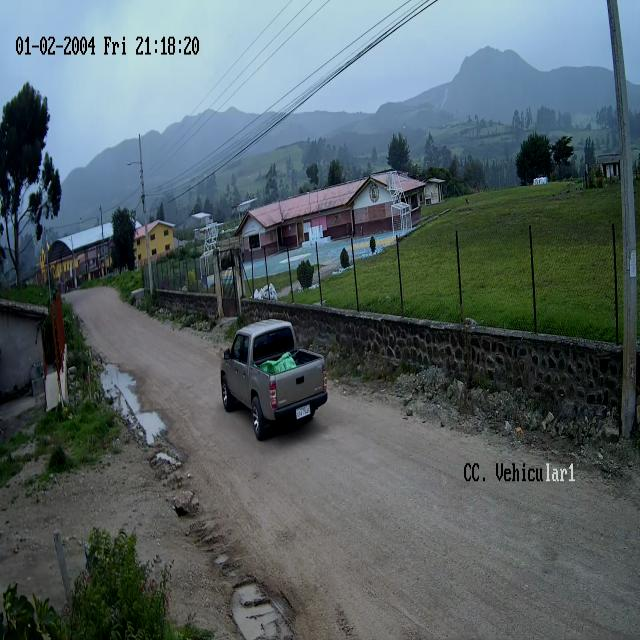CMT: (220, 319, 328, 441)
